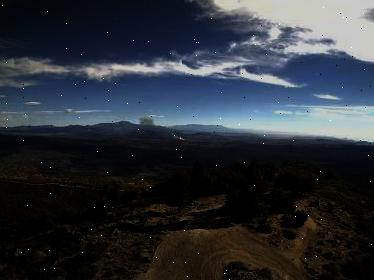smoke: (137, 114, 189, 142)
